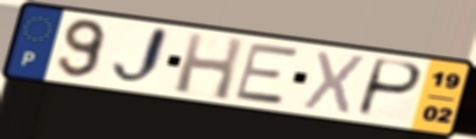9: (55, 17, 109, 80)
E: (232, 42, 301, 107)
H: (172, 30, 247, 103)
J: (108, 24, 173, 89)
P: (353, 56, 426, 120)
X: (299, 49, 370, 118)
